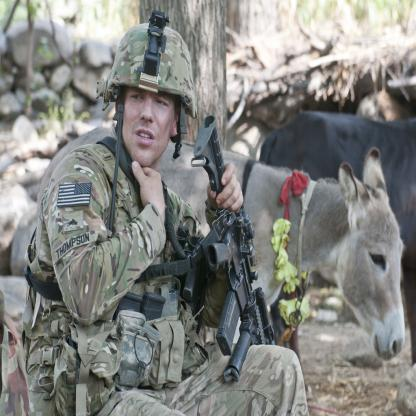Helmet: (103, 23, 198, 170)
